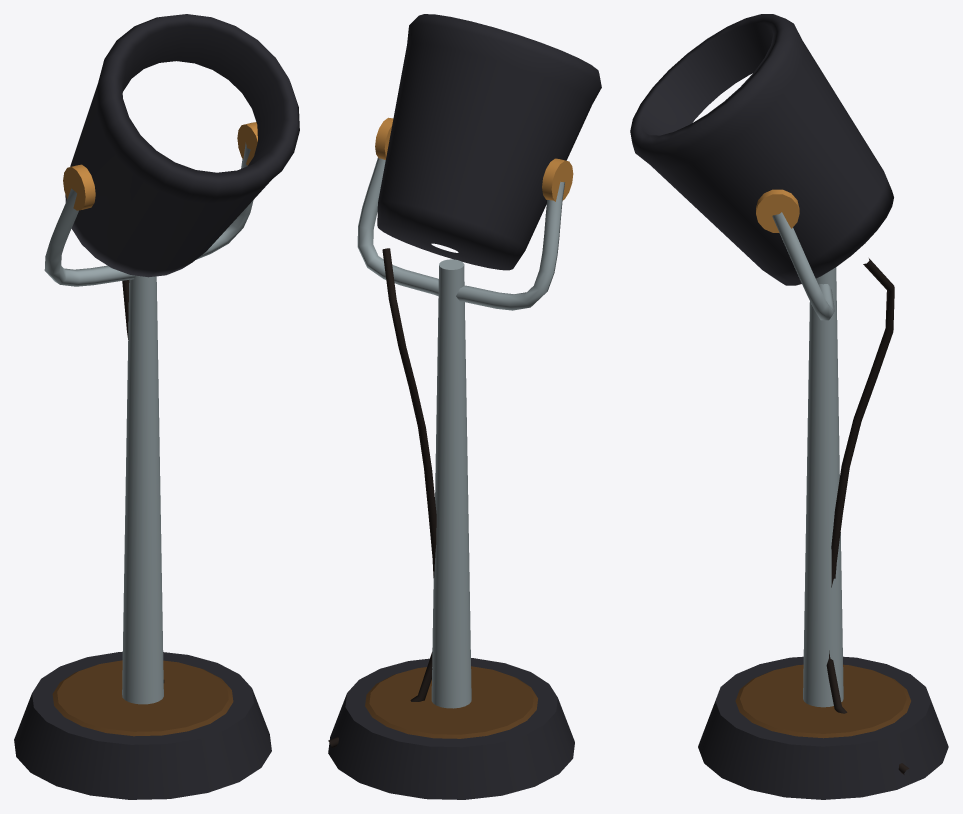
Rendered from mia-spotlight.glb.
3 views of the same model, side by side, from view 1: azimuth 30°, elevation 25°; view 2: azimuth 150°, elevation 25°; view 3: azimuth 270°, elevation 25° (orthographic). The views are drawn at different scales.
Parts seen in each view (by area): view 1: Body_iron, Body_steel, Body_wood, Body_brass; view 2: Body_iron, Body_steel, Body_wood, Body_black, Body_brass; view 3: Body_iron, Body_steel, Body_wood, Body_black, Body_brass.
Boxes of the visible parts, left/top/right/bottom form: Body_iron: left=14, top=14, right=299, bottom=799; Body_steel: left=44, top=142, right=253, bottom=704; Body_wood: left=52, top=660, right=233, bottom=736; Body_brass: left=63, top=122, right=257, bottom=210; Body_iron: left=328, top=14, right=601, bottom=799; Body_steel: left=357, top=157, right=564, bottom=708; Body_wood: left=365, top=666, right=537, bottom=738; Body_black: left=328, top=248, right=436, bottom=747; Body_brass: left=375, top=117, right=573, bottom=201; Body_iron: left=630, top=14, right=948, bottom=799; Body_steel: left=772, top=212, right=843, bottom=707; Body_wood: left=735, top=664, right=910, bottom=738; Body_black: left=826, top=258, right=909, bottom=774; Body_brass: left=756, top=189, right=799, bottom=232.
Size of the model in its own units: 0.688 by 2.18 by 0.8736.
